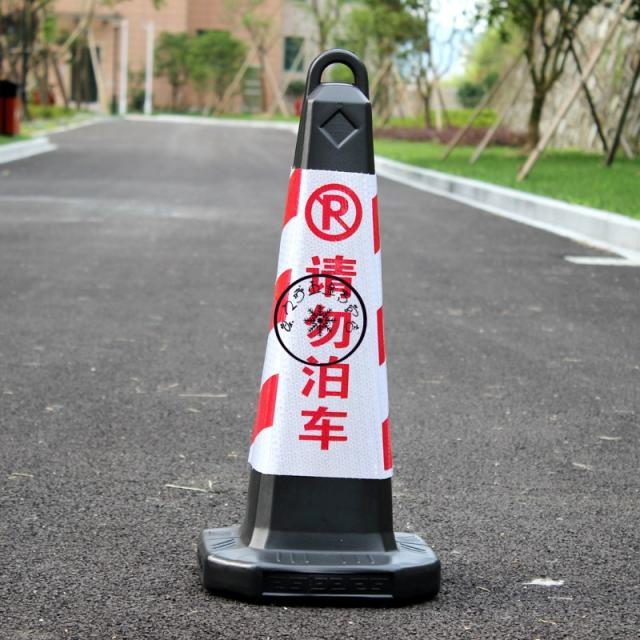reflective_cone: (192, 46, 447, 602)
